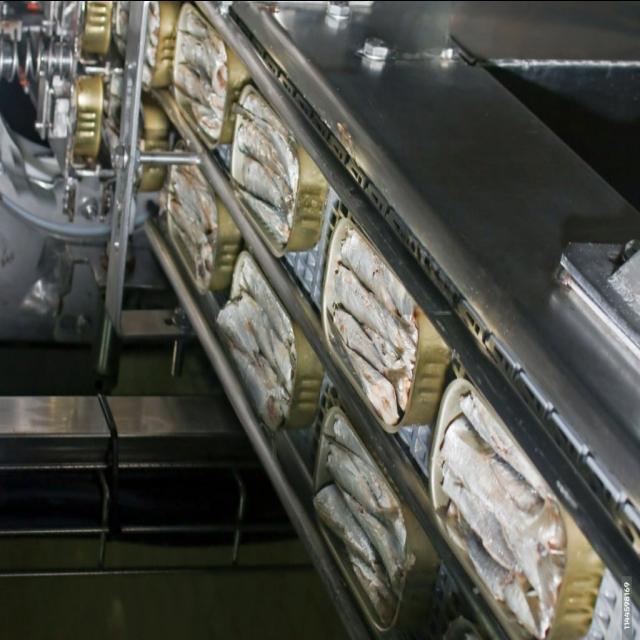food: (428, 375, 596, 635), (303, 413, 423, 627), (320, 212, 434, 428), (228, 78, 322, 256)
